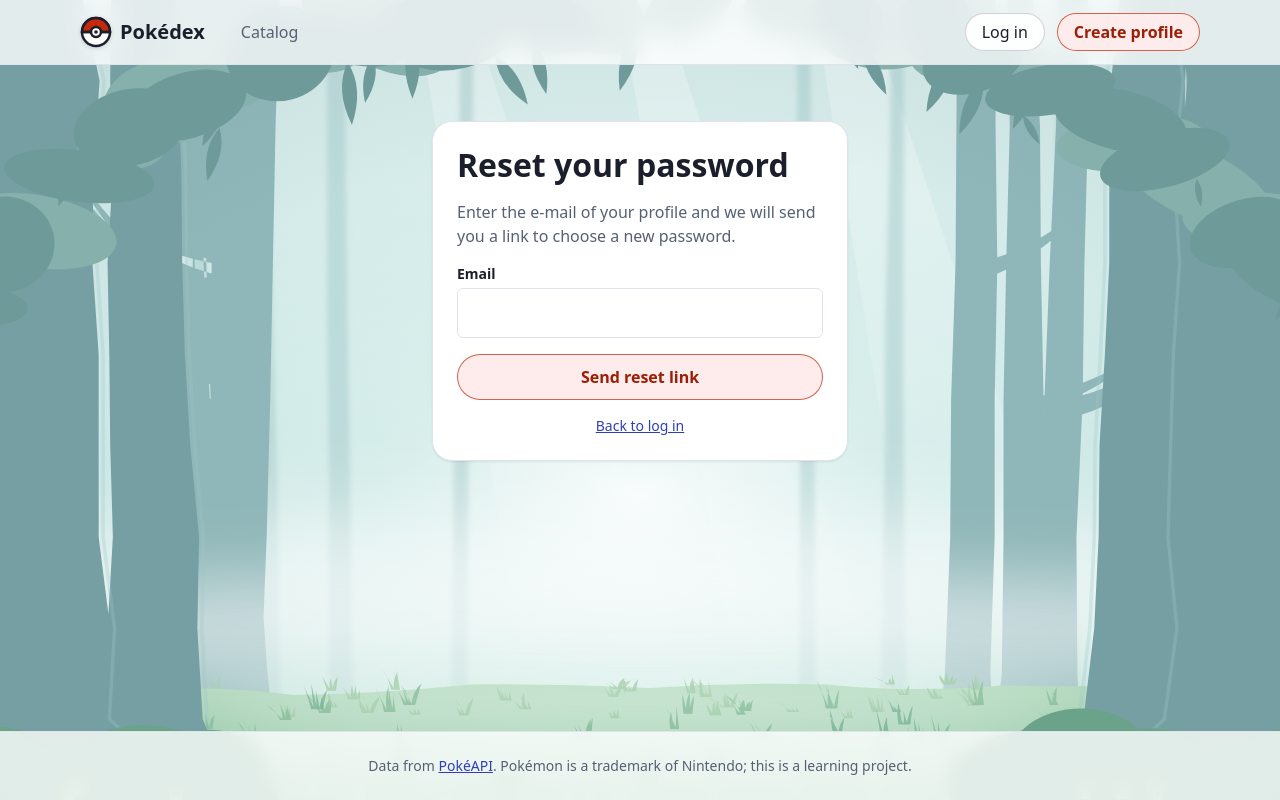
Test: ForgotPasswordPage › shows a general error when the server cannot be reached
In the field labelled "Email": (640, 313) [457,288,823,338], type "ash@example.com"
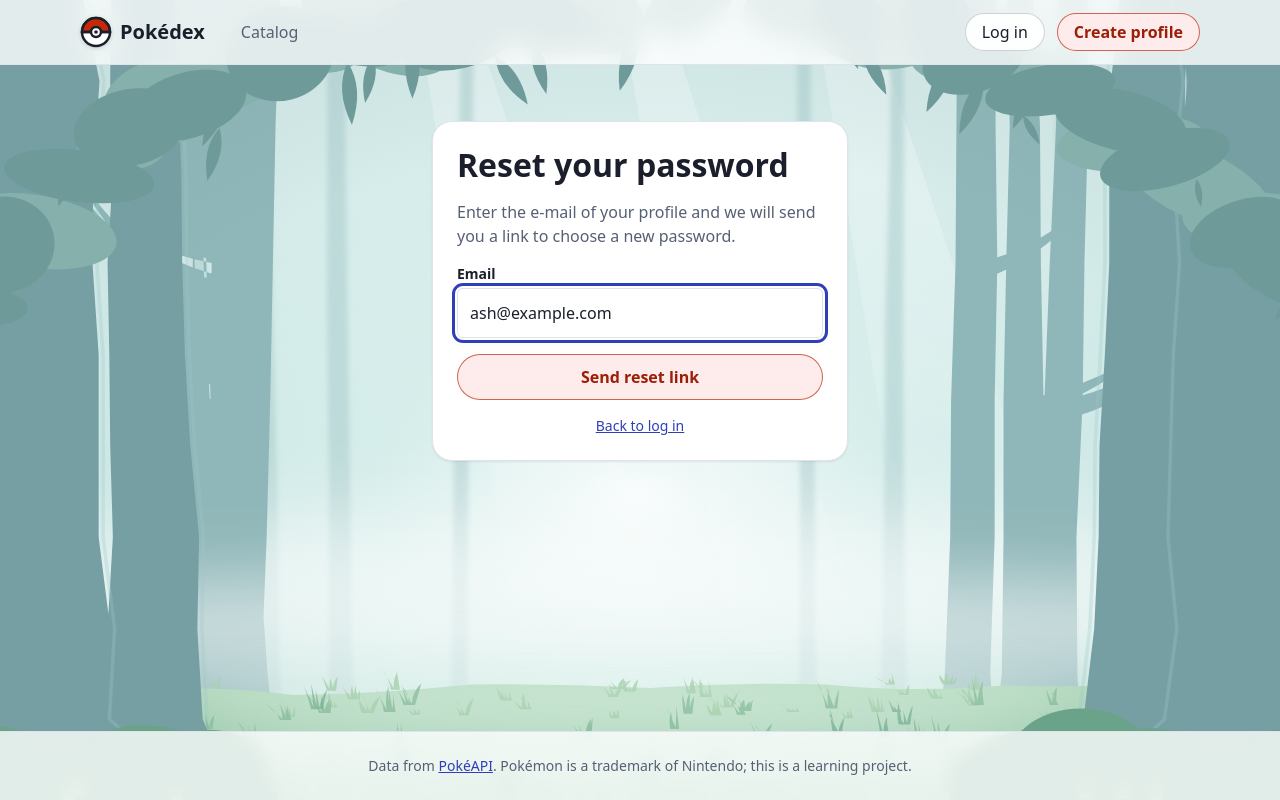
Click the button "Send reset link": (640, 377) [457,354,823,400]
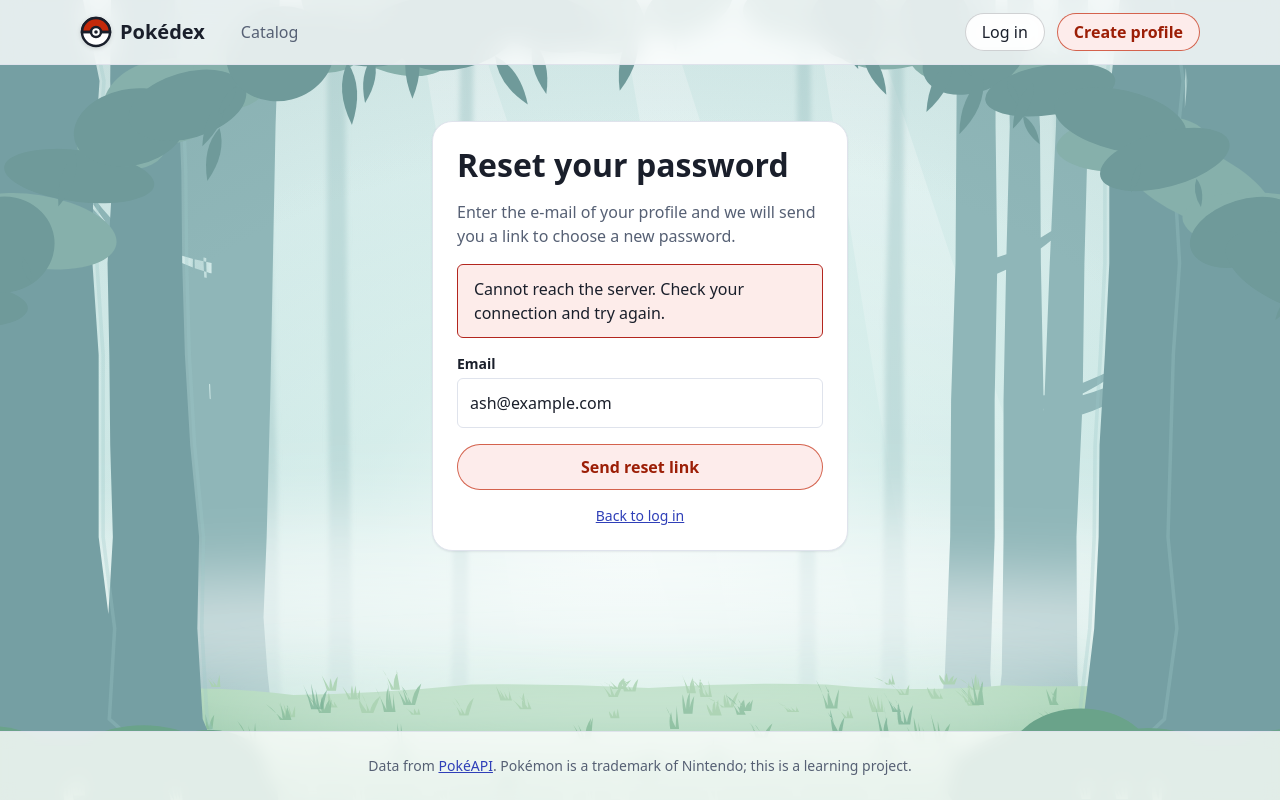
Expected: the message shows "Cannot reach the server", [474,278,744,324]
